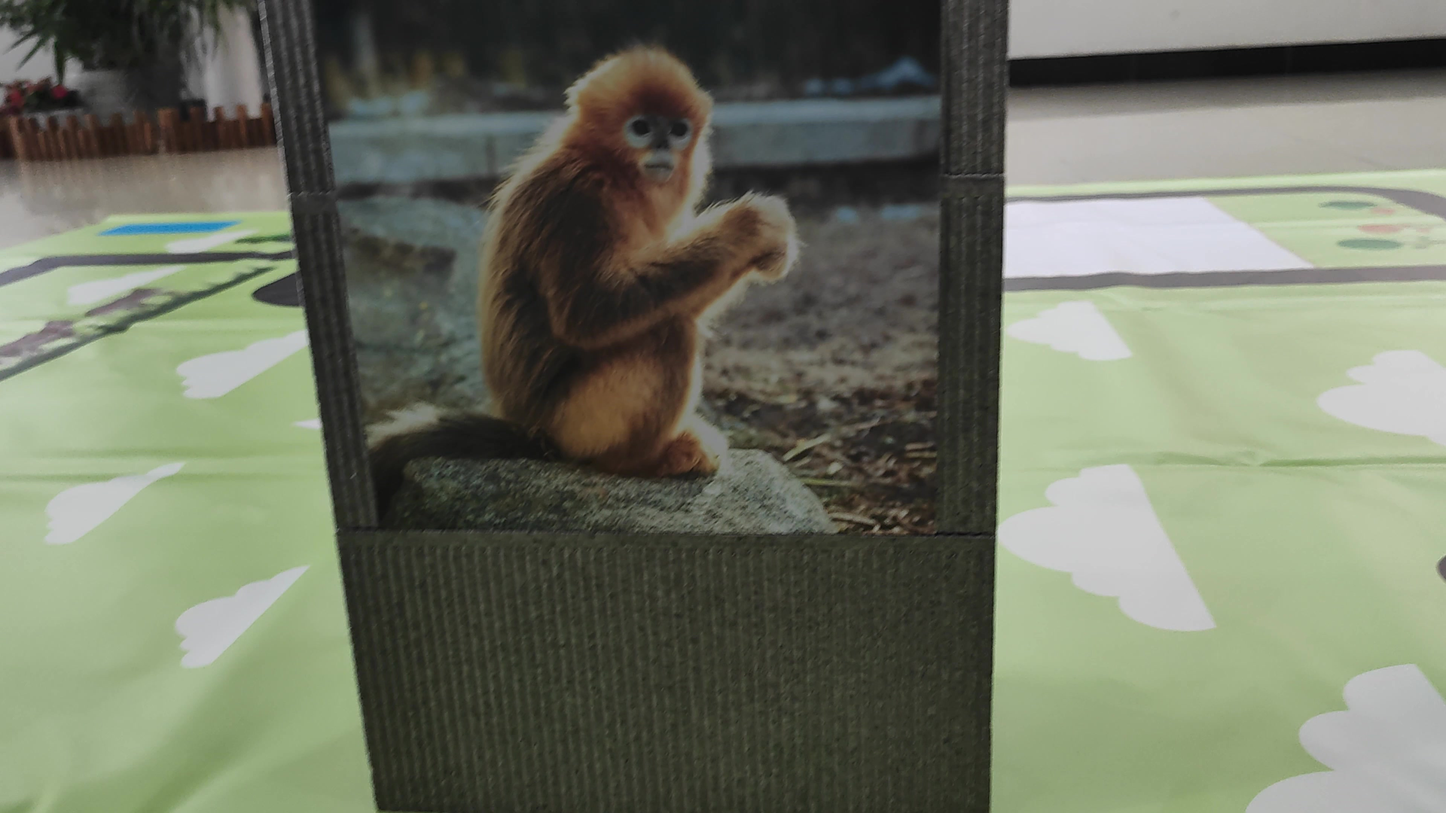monkey: (455, 47, 854, 498)
